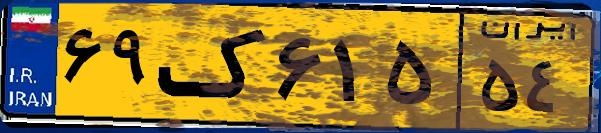1: (330, 28, 385, 110)
4: (525, 38, 570, 115)
5: (385, 28, 445, 110), (475, 38, 525, 113)
6: (270, 28, 330, 110), (57, 26, 110, 100)
9: (110, 28, 158, 98)
ک: (158, 12, 270, 120)
